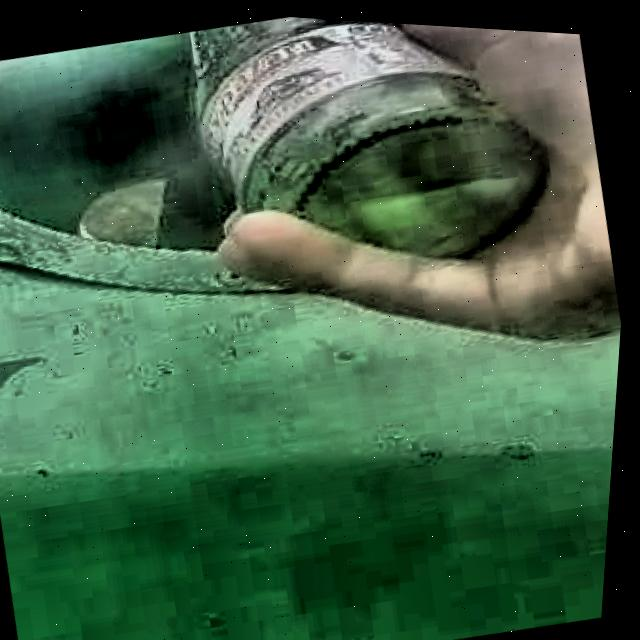glass: (182, 13, 548, 251)
